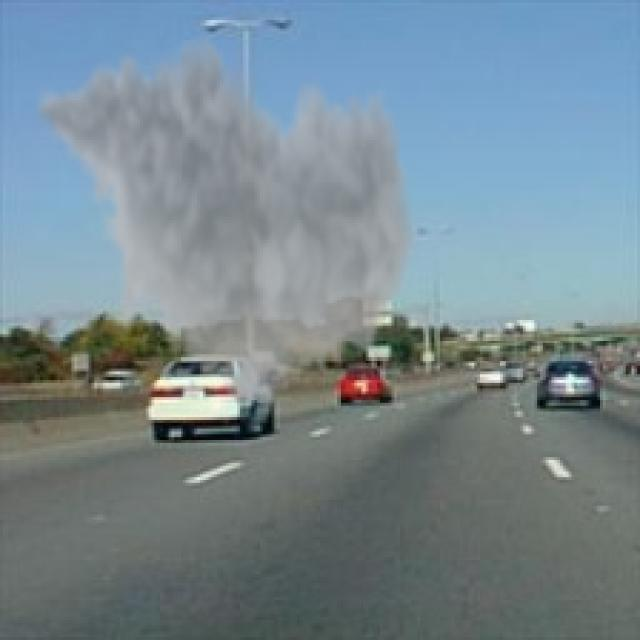Smoke: (31, 26, 420, 423)
